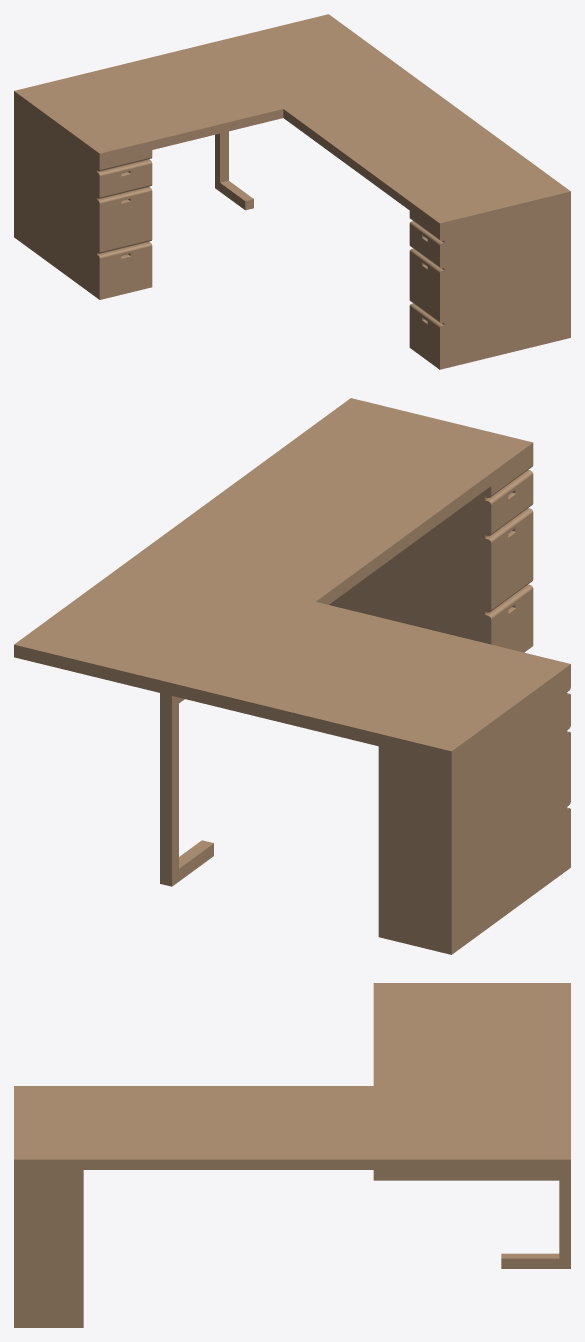
Rendered from OfficeDesk.dae.
3 views of the same model, one above another, from view 1: azimuth 30°, elevation 25°; view 2: azimuth 150°, elevation 25°; view 3: azimuth 270°, elevation 25° (orthographic). The views are drawn at different scales.
Visible parts, largest first — view 1: corner_desk; view 2: corner_desk; view 3: corner_desk.
Part boxes in pixels (left/top/right/bottom): corner_desk: left=14, top=14, right=570, bottom=369; corner_desk: left=14, top=398, right=570, bottom=954; corner_desk: left=14, top=983, right=570, bottom=1327.
Size of the model in its own units: 1.83 by 2.44 by 0.8128.
